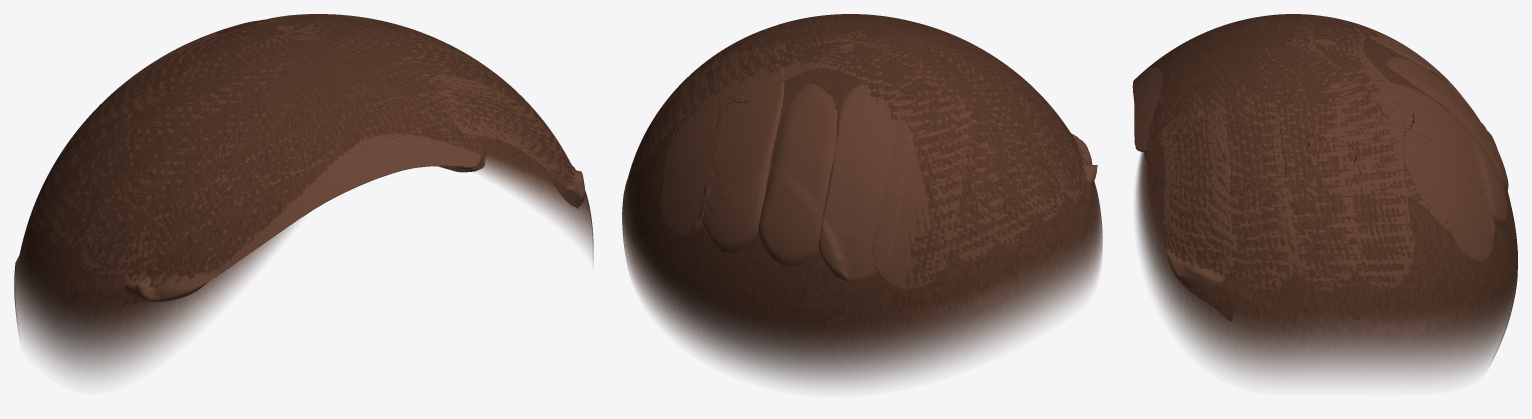
File: Masculine-taper-cap252-hair.glb
The picture shows the model from 3 angles, left to right: view 1: azimuth 30°, elevation 25°; view 2: azimuth 150°, elevation 25°; view 3: azimuth 270°, elevation 25°; orthographic projection. The views are drawn at different scales.
Visible parts, largest first — view 1: 226 hair / Hair252 / restored153 fade coverage.001, 226 hair / Hair252 / gentle tonal variation.001, 226 hair / Hair252 / sculpted locks.001; view 2: 226 hair / Hair252 / restored153 fade coverage.001, 226 hair / Hair252 / sculpted locks.001, 226 hair / Hair252 / gentle tonal variation.001; view 3: 226 hair / Hair252 / restored153 fade coverage.001, 226 hair / Hair252 / sculpted locks.001, 226 hair / Hair252 / gentle tonal variation.001.
Part boxes in pixels (x1,y1,x2,y2): 226 hair / Hair252 / restored153 fade coverage.001: (14,14,593,379); 226 hair / Hair252 / gentle tonal variation.001: (108,33,584,301); 226 hair / Hair252 / sculpted locks.001: (31,14,566,276); 226 hair / Hair252 / restored153 fade coverage.001: (622,14,1102,386); 226 hair / Hair252 / sculpted locks.001: (634,14,1083,290); 226 hair / Hair252 / gentle tonal variation.001: (818,33,1097,282); 226 hair / Hair252 / restored153 fade coverage.001: (1135,14,1517,382); 226 hair / Hair252 / sculpted locks.001: (1157,14,1508,291); 226 hair / Hair252 / gentle tonal variation.001: (1132,25,1497,288).
Bounding box in the file's own units: 0.976 × 0.6423 × 0.7157.
Materials: 3 (1 with a texture image).
